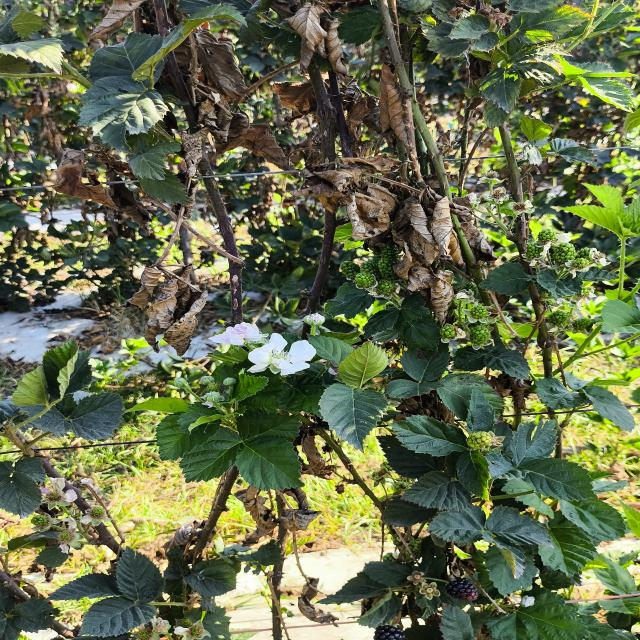boton: (173, 377, 199, 399), (304, 313, 325, 335), (203, 391, 223, 407), (199, 376, 214, 386), (222, 377, 236, 387)
flor: (248, 334, 316, 376), (209, 322, 267, 346)
maduro: (373, 625, 405, 640)
marron: (446, 578, 478, 601)
verde: (469, 324, 491, 348), (467, 431, 494, 449), (553, 243, 576, 264), (360, 257, 379, 279), (340, 261, 360, 279), (376, 279, 396, 297), (355, 272, 375, 289), (469, 304, 489, 320), (536, 229, 557, 244), (525, 243, 542, 260), (440, 324, 455, 340), (576, 247, 591, 259)
